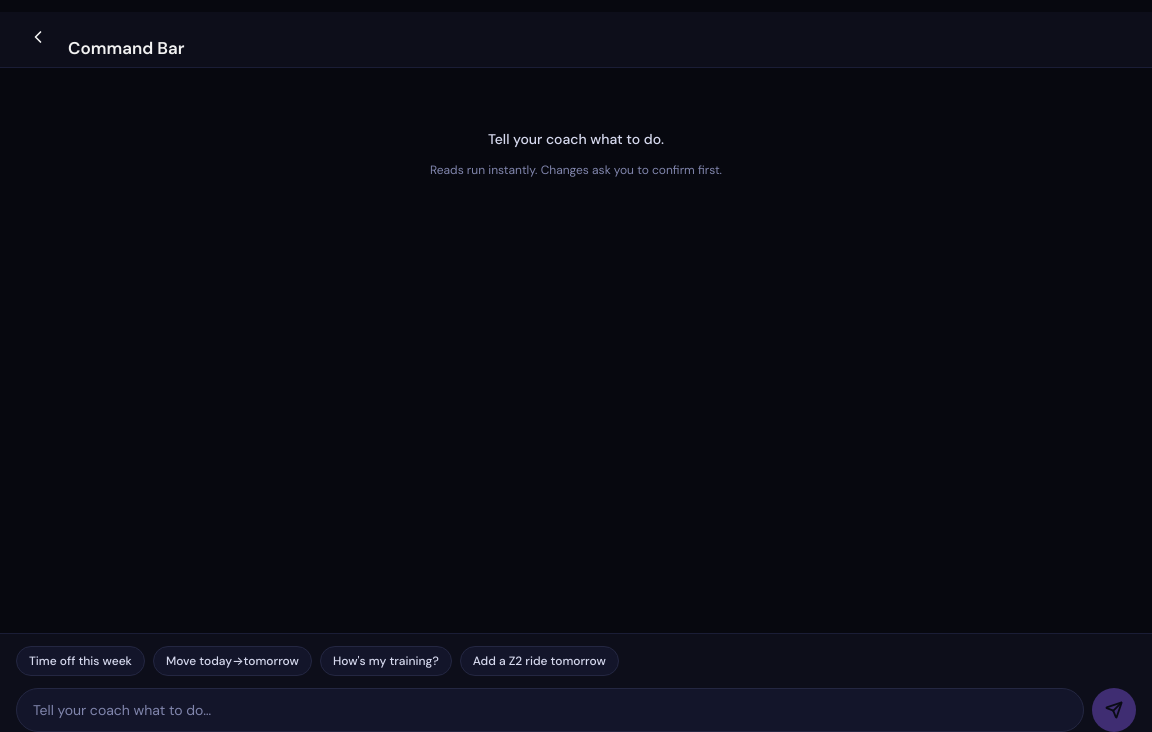
Test case: CoachingChat (command bar) › submitting a write command shows a confirm card without executing
The width and height of the screenshot is (1152, 732).
Click the button "Time off this week".
click(80, 661)  # box [16,646,145,676]
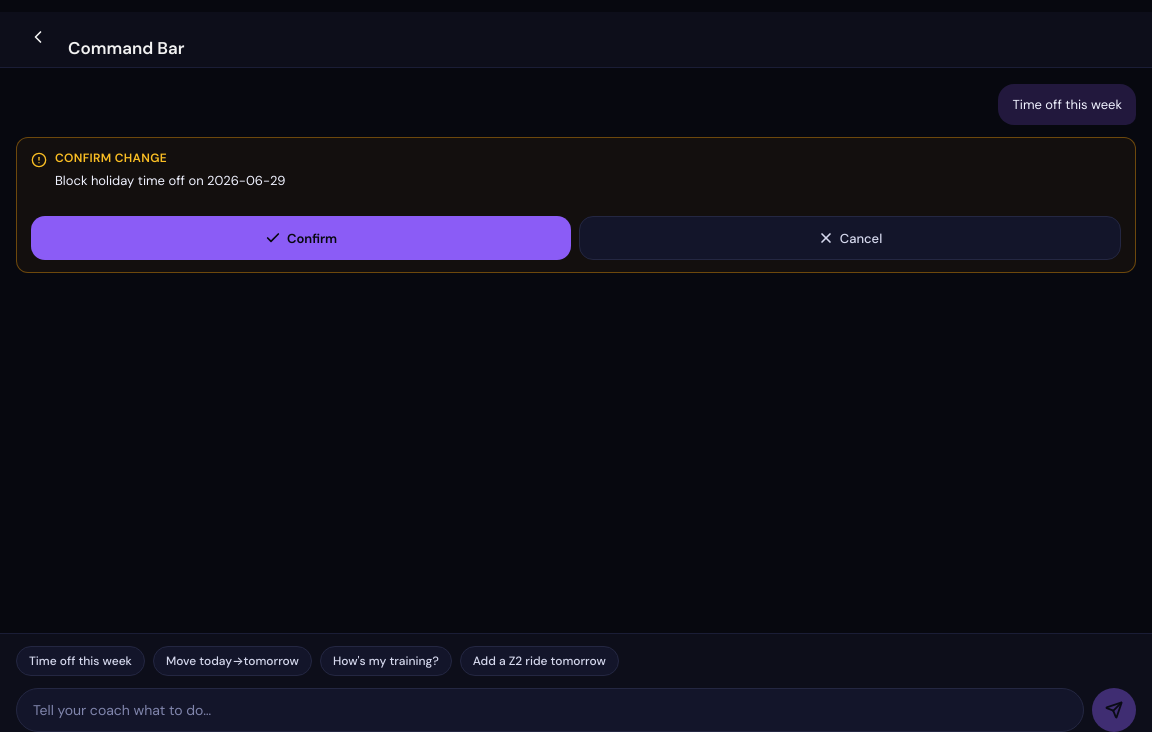
Check: the element with test id "entry-confirm" is shown, box [16,137,1136,273]
Check: the text "Block holiday time off on 2026-06-29" is shown, box [55,172,286,189]
